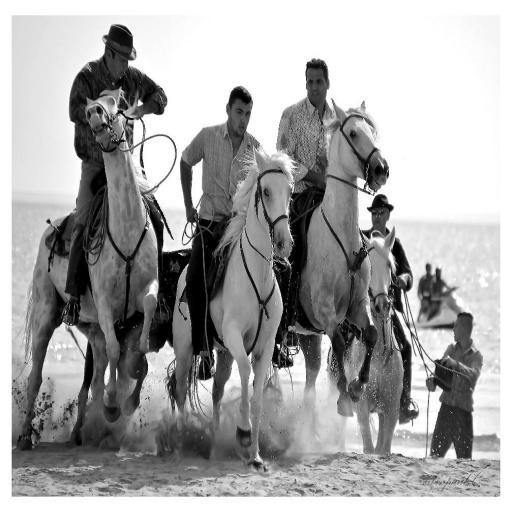Horse: (212, 98, 390, 444), (11, 84, 161, 450), (163, 144, 298, 473), (323, 226, 405, 456)
